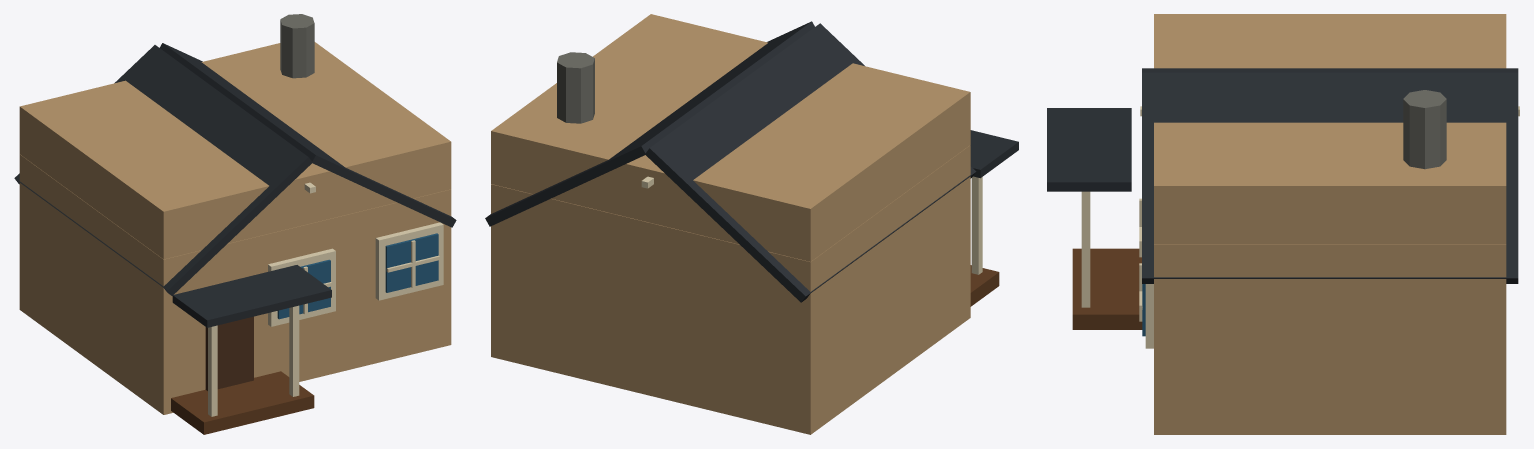
The model's file is House_Suburban_A.obj.
3 renders of one model, left to right at view 1: azimuth 30°, elevation 25°; view 2: azimuth 150°, elevation 25°; view 3: azimuth 270°, elevation 25°, orthographic. The views are drawn at different scales.
Parts seen in each view (by area): view 1: House_Walls, House_Gable, House_RoofLeft, PorchCanopy, PorchDeck, House_RoofRight, WindowTrim, WindowGlass, FrontDoor, Chimney, PorchPost; view 2: House_Walls, House_Gable, House_RoofLeft, House_RoofRight, Chimney, PorchCanopy, PorchPost, PorchDeck; view 3: House_Walls, House_Gable, House_RoofRight, PorchCanopy, PorchDeck, Chimney, House_RoofLeft, PorchPost, WindowTrim.
Part boxes in pixels (left/top/right/bottom): House_Walls: left=19, top=154, right=451, bottom=414; House_Gable: left=19, top=42, right=451, bottom=259; House_RoofLeft: left=14, top=45, right=312, bottom=295; PorchCanopy: left=172, top=265, right=331, bottom=327; PorchDeck: left=171, top=371, right=314, bottom=434; House_RoofRight: left=159, top=43, right=456, bottom=227; WindowTrim: left=268, top=222, right=443, bottom=326; WindowGlass: left=277, top=233, right=438, bottom=319; FrontDoor: left=205, top=316, right=253, bottom=390; Chimney: left=280, top=14, right=314, bottom=78; PorchPost: left=208, top=305, right=299, bottom=416; House_Walls: left=491, top=145, right=970, bottom=434; House_Gable: left=491, top=14, right=970, bottom=261; House_RoofLeft: left=645, top=23, right=976, bottom=302; House_RoofRight: left=485, top=21, right=814, bottom=226; Chimney: left=557, top=52, right=594, bottom=123; PorchCanopy: left=970, top=130, right=1018, bottom=178; PorchPost: left=971, top=176, right=982, bottom=274; PorchDeck: left=970, top=265, right=999, bottom=306; House_Walls: left=1154, top=244, right=1506, bottom=434; House_Gable: left=1154, top=14, right=1506, bottom=244; House_RoofRight: left=1142, top=72, right=1518, bottom=283; PorchCanopy: left=1047, top=108, right=1131, bottom=191; PorchDeck: left=1072, top=248, right=1142, bottom=329; Chimney: left=1403, top=90, right=1446, bottom=169; House_RoofLeft: left=1142, top=68, right=1518, bottom=72; PorchPost: left=1081, top=191, right=1090, bottom=307; WindowTrim: left=1145, top=284, right=1153, bottom=348.
Bounding box in the file's own units: 6.02 × 5.05 × 6.98.
